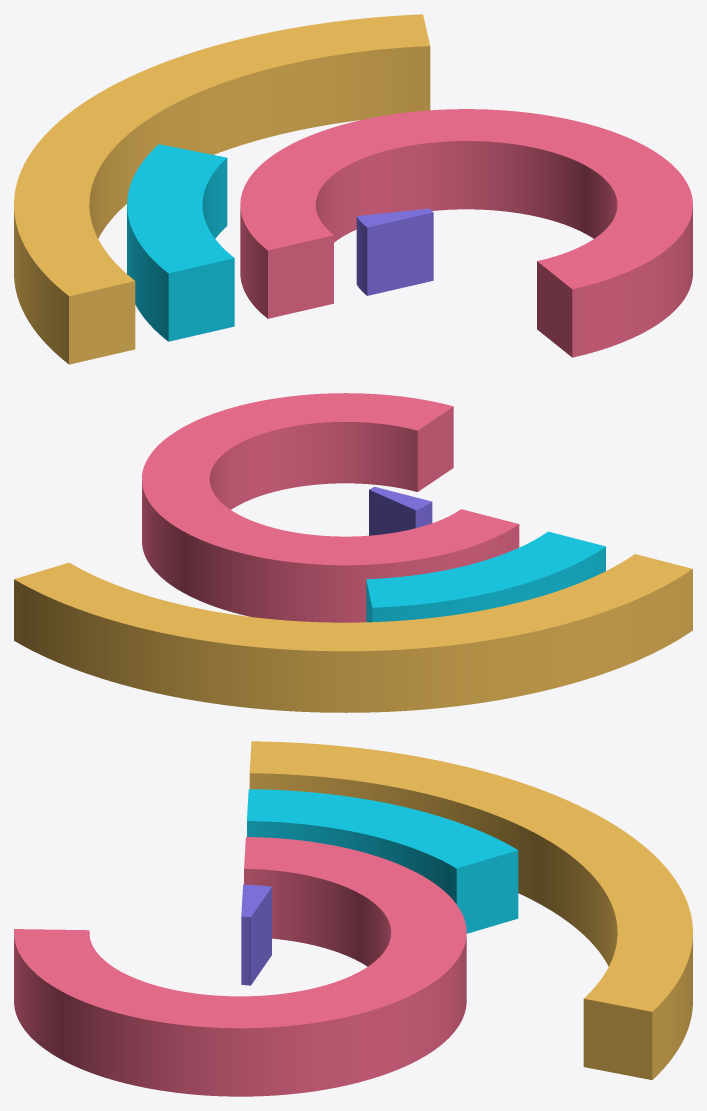
File: disable3.fbx
3 views of the same model, one above another, from view 1: azimuth 30°, elevation 25°; view 2: azimuth 150°, elevation 25°; view 3: azimuth 270°, elevation 25° (orthographic). The views are drawn at different scales.
Parts seen in each view (by area): view 1: Disable2_obj; view 2: Disable2_obj; view 3: Disable2_obj.
Part boxes in pixels (box(x1,y1,x2,y2)): Disable2_obj: box(14, 14, 692, 364); Disable2_obj: box(14, 393, 692, 712); Disable2_obj: box(14, 741, 692, 1096).
Size of the model in its own units: 1.8 by 0.2 by 1.8.
